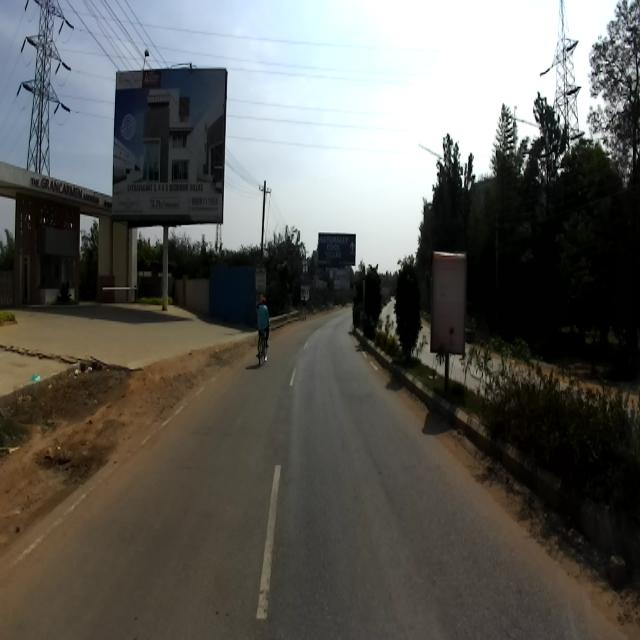bicycle ahead at: (256, 321, 272, 370)
